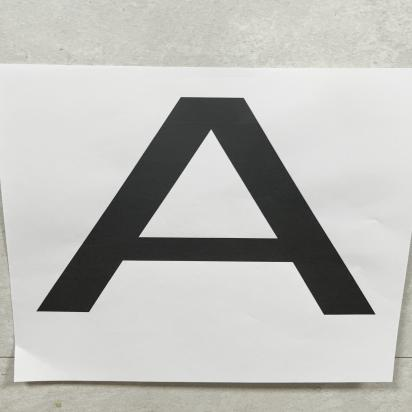seat: (34, 75, 392, 336)
